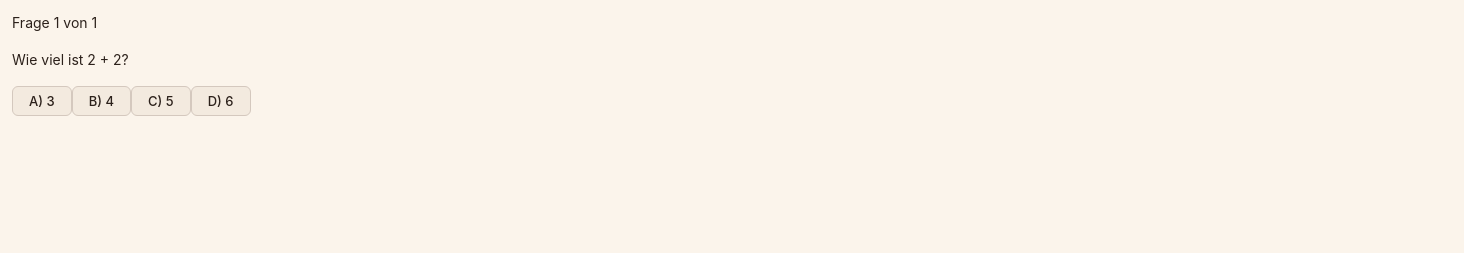
Test: QuizSession — anklickbare Multiple-Choice-Antworten › markiert eine falsch gewählte Option und zeigt die richtige Antwort
The width and height of the screenshot is (1464, 253).
What coordinates should you click on to do the following:
click the button "A) 3"
I would click on:
 (42, 101)
Its box is top-left (12, 86), bottom-right (72, 116).
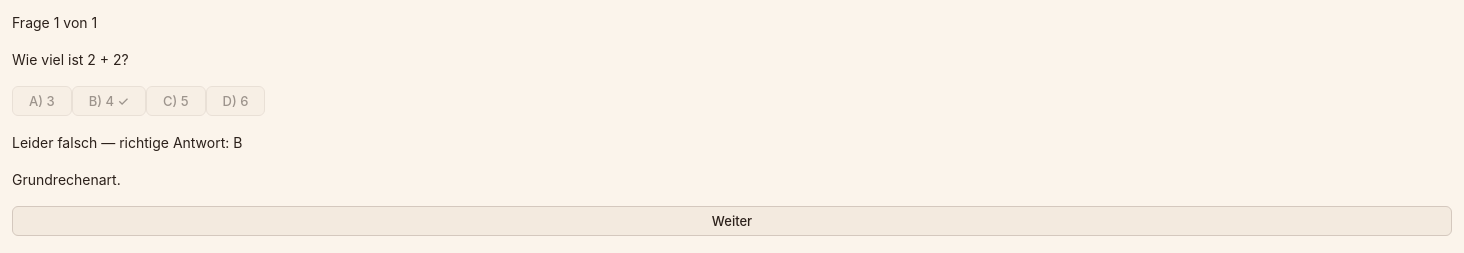
Now the text "Leider falsch — richtige Antwort: B" is shown, box top-left (12, 134), bottom-right (242, 151)
